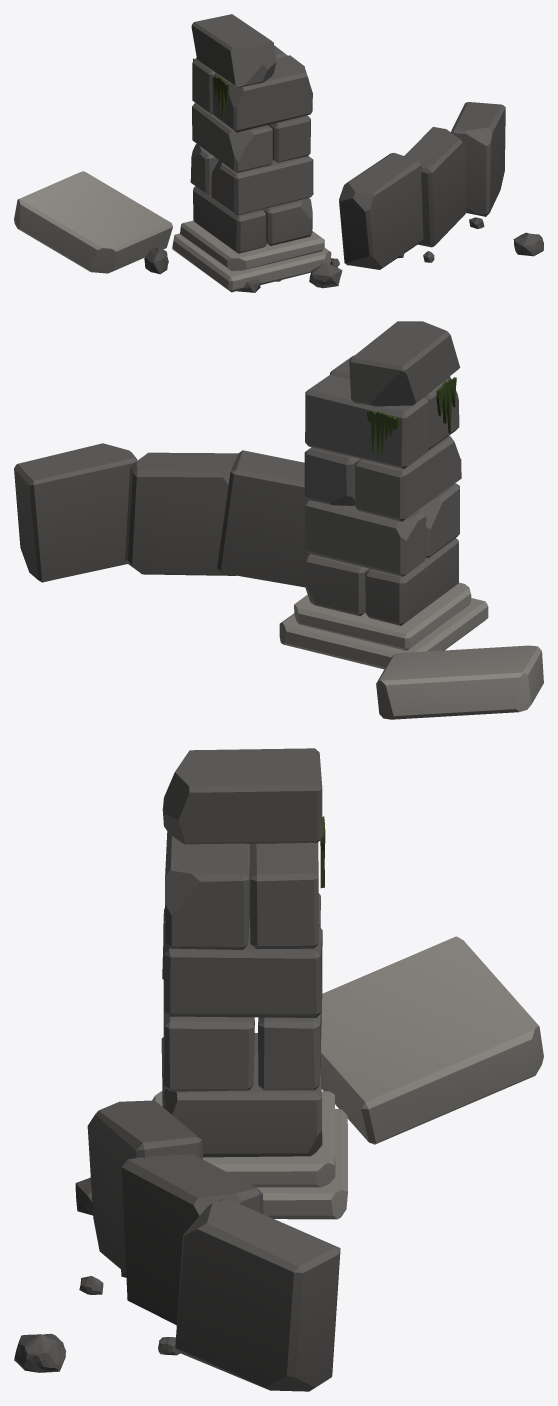
File: pillar_broken.glb
The picture shows the model from 3 angles, top to bottom: view 1: azimuth 30°, elevation 25°; view 2: azimuth 150°, elevation 25°; view 3: azimuth 270°, elevation 25°; orthographic projection. The views are drawn at different scales.
Visible parts, largest first — view 1: pillar_broken; view 2: pillar_broken; view 3: pillar_broken.
Part boxes in pixels (bbox=[...]): pillar_broken: bbox=[14, 14, 543, 292]; pillar_broken: bbox=[14, 321, 543, 719]; pillar_broken: bbox=[14, 748, 543, 1391].
Size of what is drawn, in the model's own units: 5.59 by 2.86 by 3.37.
